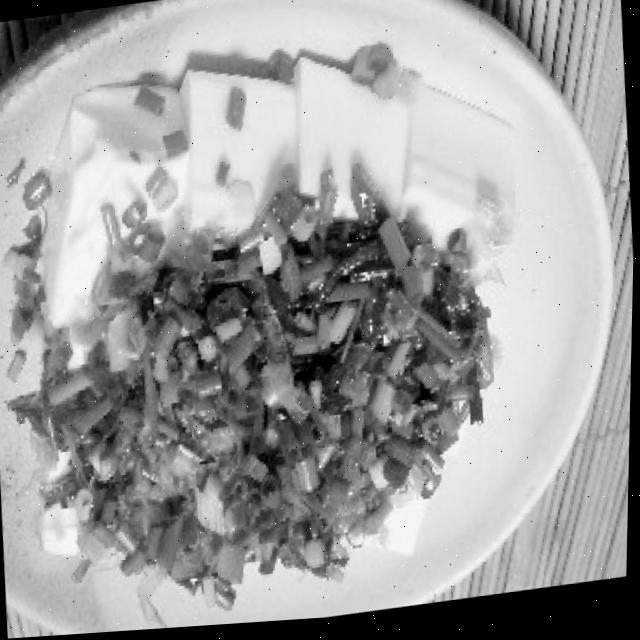豆腐料理: (0, 23, 548, 640)
